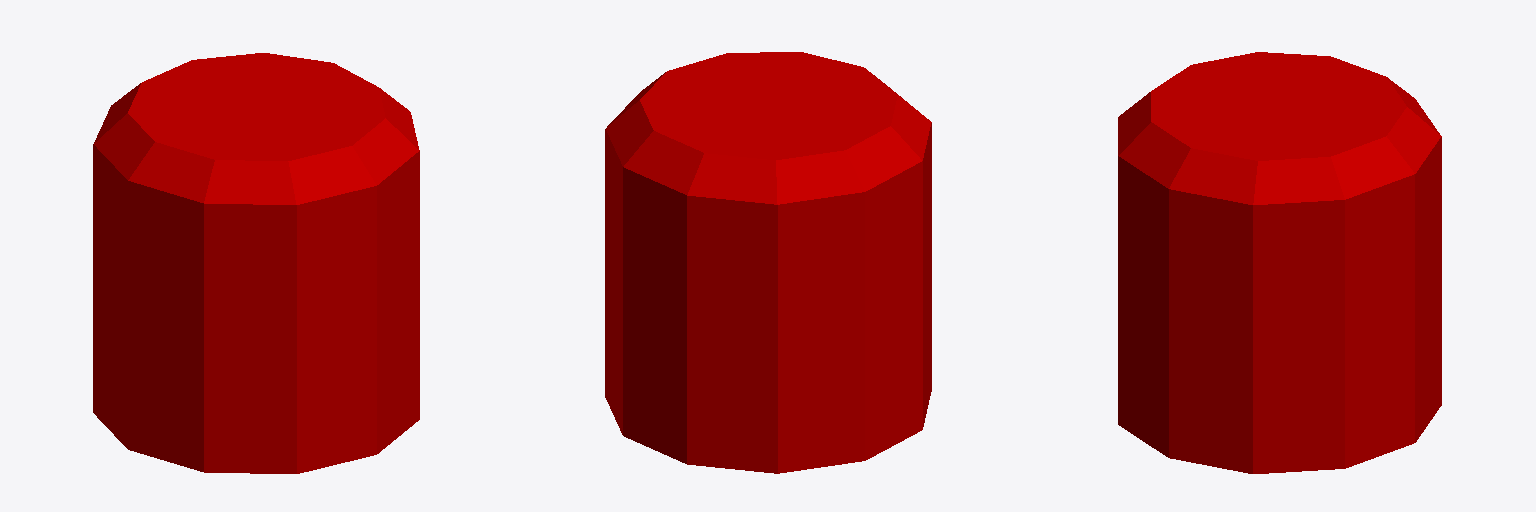
File: right_button.obj
The picture shows the model from 3 angles: view 1: azimuth 30°, elevation 25°; view 2: azimuth 150°, elevation 25°; view 3: azimuth 270°, elevation 25°; orthographic projection.
Visible parts, largest first — view 1: rigth; view 2: rigth; view 3: rigth.
Boxes of the visible parts, x1=… form: rigth: x1=93, y1=53, x2=419, y2=473; rigth: x1=605, y1=52, x2=931, y2=473; rigth: x1=1118, y1=52, x2=1441, y2=473.
Size of the model in its own units: 0.1729 by 0.1746 by 0.1711.